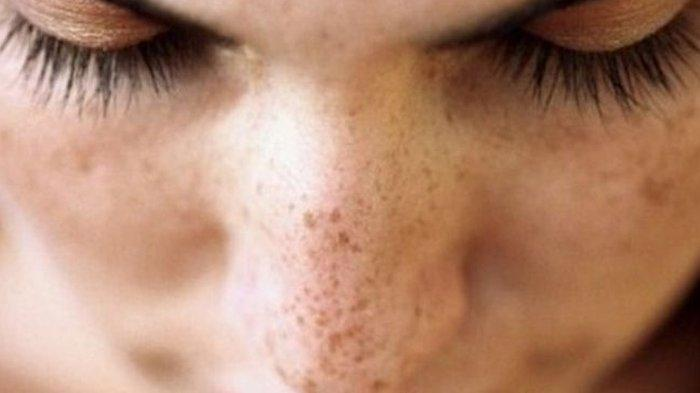Dark-Spots: (255, 76, 449, 393), (454, 97, 700, 258)
